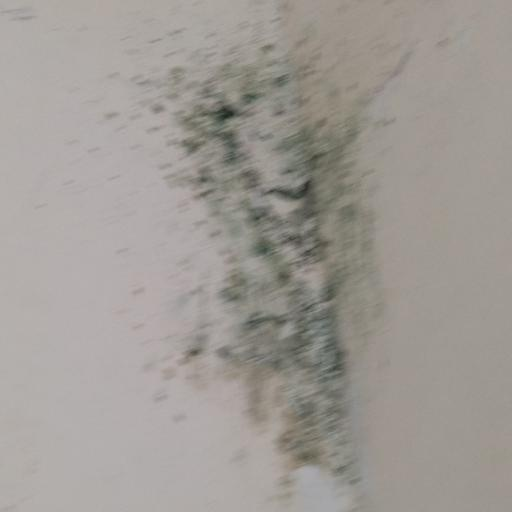algae: (128, 26, 415, 499)
